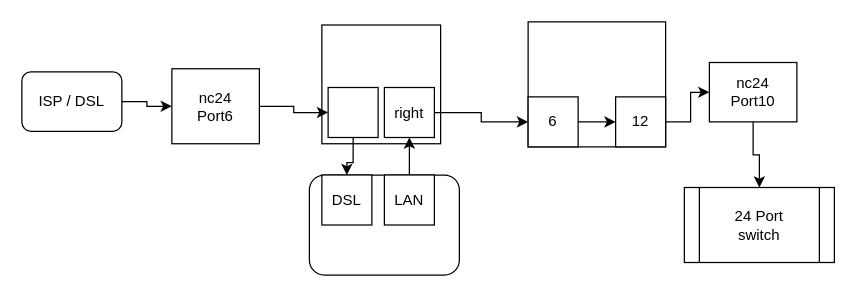
Some shapes in this 856 by 298 pixel diagram are drawn without their labels. Each missing label, with the box of its shape:
left: (327, 86, 378, 138)
living east: (321, 24, 441, 144)
opp12: (527, 21, 666, 147)
router: (308, 174, 459, 275)
